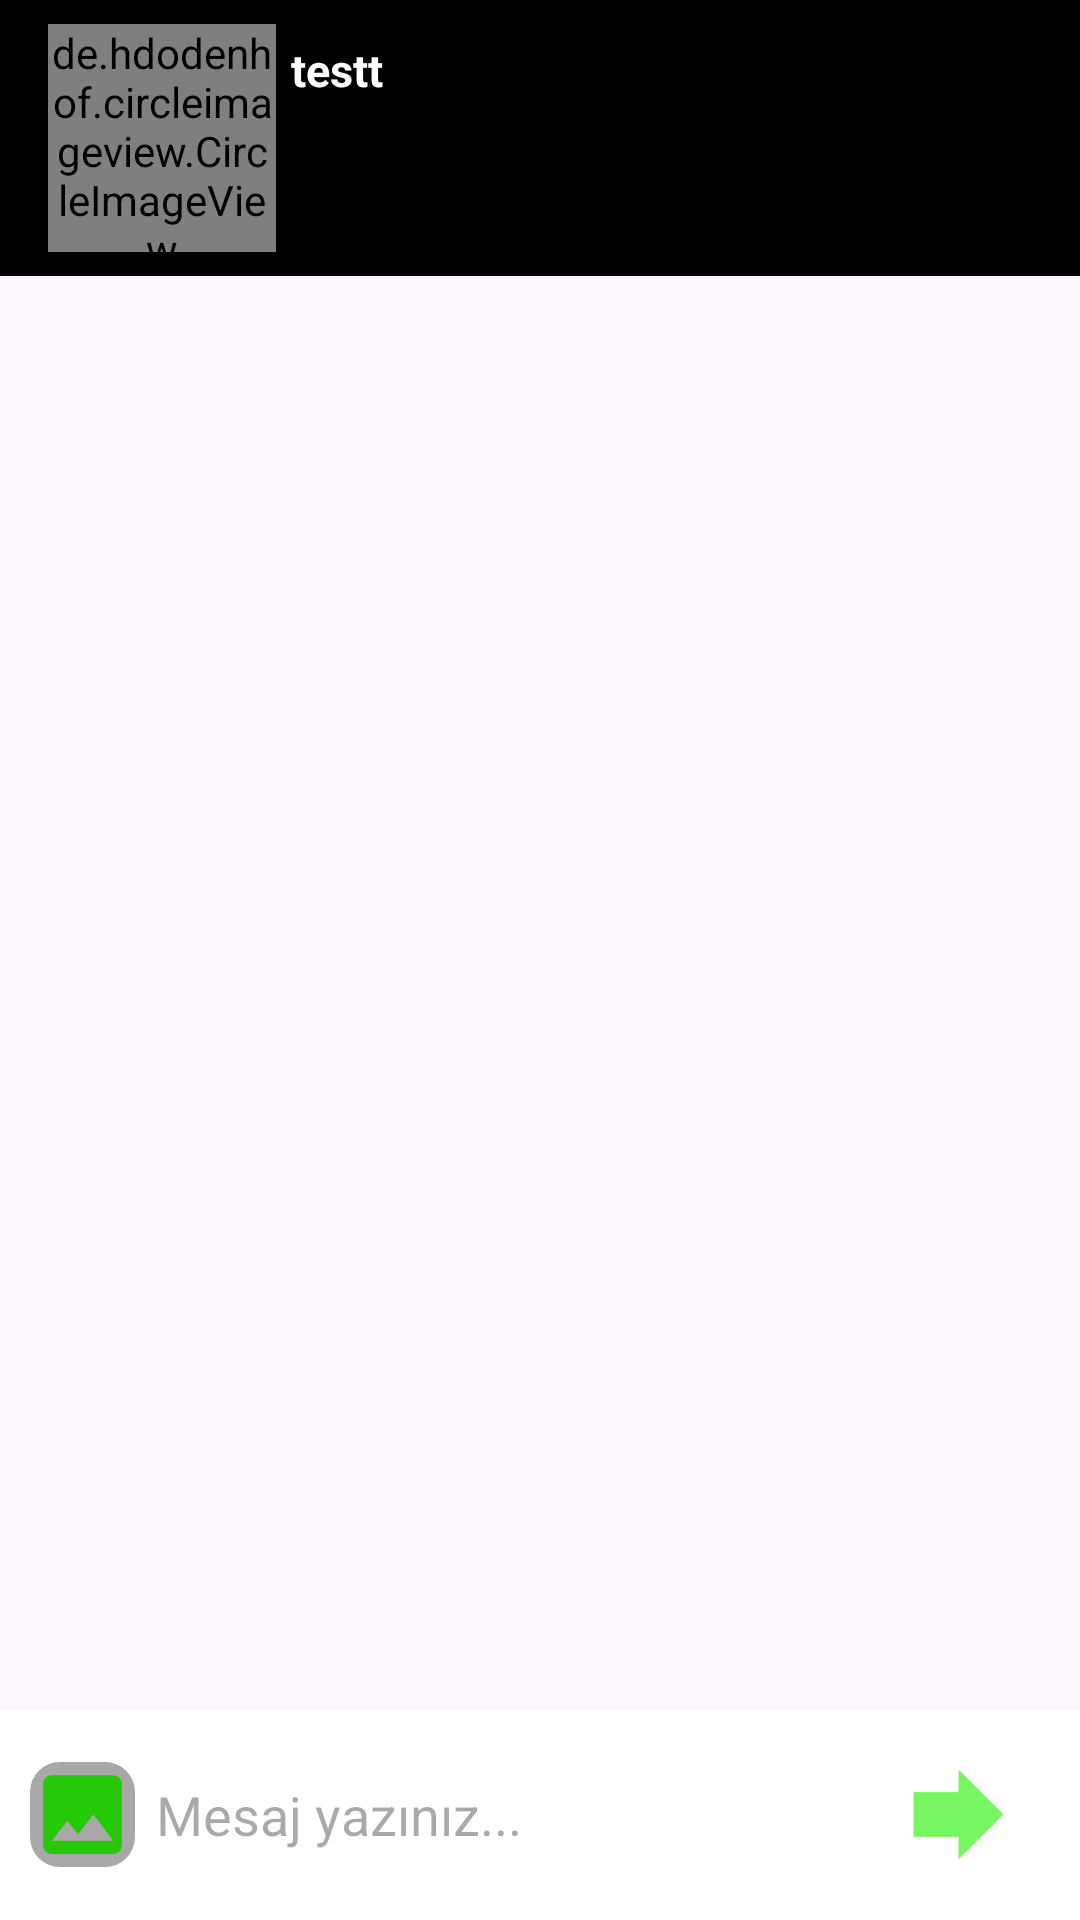

Named icons in this screenshot (1080x1920) and their centers, (x=x, y=y):
galeri: (x=82, y=1814)
send: (x=958, y=1814)
